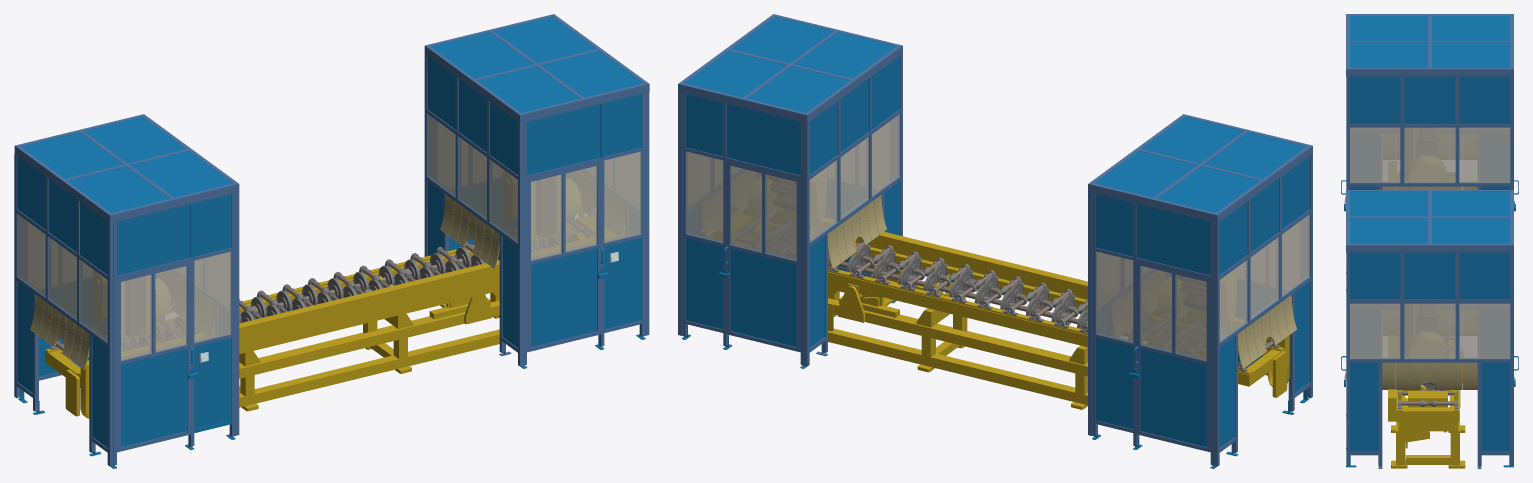
File: DAMO_OK.fbx
The picture shows the model from 3 angles, left to right: view 1: azimuth 30°, elevation 25°; view 2: azimuth 150°, elevation 25°; view 3: azimuth 270°, elevation 25°; orthographic projection. The views are drawn at different scales.
Visible parts, largest first — view 1: A (×2), CHENGJIA, A33, A27, A36, A30, A31, A37, D, daizi, daizi2, S (+1 smaller); view 2: A (×2), CHENGJIA, A27, A33, A34, A28, A35, A29, D, daizi, daizi2, S (+2 smaller); view 3: A (×2), A33, A27, CHENGJIA, daizi3, S, daizi1.
Part boxes in pixels (x1,y1,x2,y2): A (×2): [14, 14, 649, 468]; CHENGJIA: [45, 245, 499, 418]; A33: [427, 114, 641, 242]; A27: [17, 214, 231, 342]; A36: [527, 161, 603, 352]; A30: [116, 261, 193, 452]; A31: [121, 266, 187, 360]; A37: [531, 166, 597, 260]; D: [239, 247, 472, 323]; daizi: [30, 295, 89, 369]; daizi2: [440, 195, 499, 269]; S: [56, 243, 485, 350]; A (×2): [678, 14, 1312, 468]; CHENGJIA: [828, 231, 1289, 409]; A27: [1096, 214, 1309, 342]; A33: [686, 114, 899, 242]; A34: [724, 161, 800, 352]; A28: [1134, 261, 1210, 452]; A35: [730, 166, 796, 260]; A29: [1140, 266, 1206, 360]; D: [828, 252, 1087, 328]; daizi: [1238, 295, 1296, 369]; daizi2: [828, 195, 886, 269]; S: [844, 241, 1273, 366]; A (×2): [1346, 14, 1515, 468]; A33: [1350, 303, 1510, 358]; A27: [1350, 127, 1510, 182]; CHENGJIA: [1388, 187, 1465, 468]; daizi3: [1382, 362, 1477, 389]; S: [1401, 369, 1454, 406]; daizi1: [1382, 186, 1477, 189].
Bounding box in the file's own units: 608 × 265 × 191.
